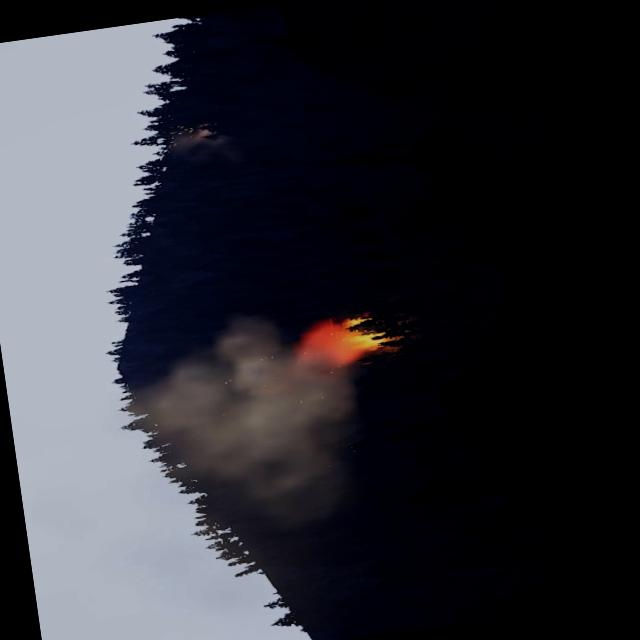fire: (314, 308, 404, 365)
smoke: (125, 310, 380, 550), (169, 118, 248, 170)
